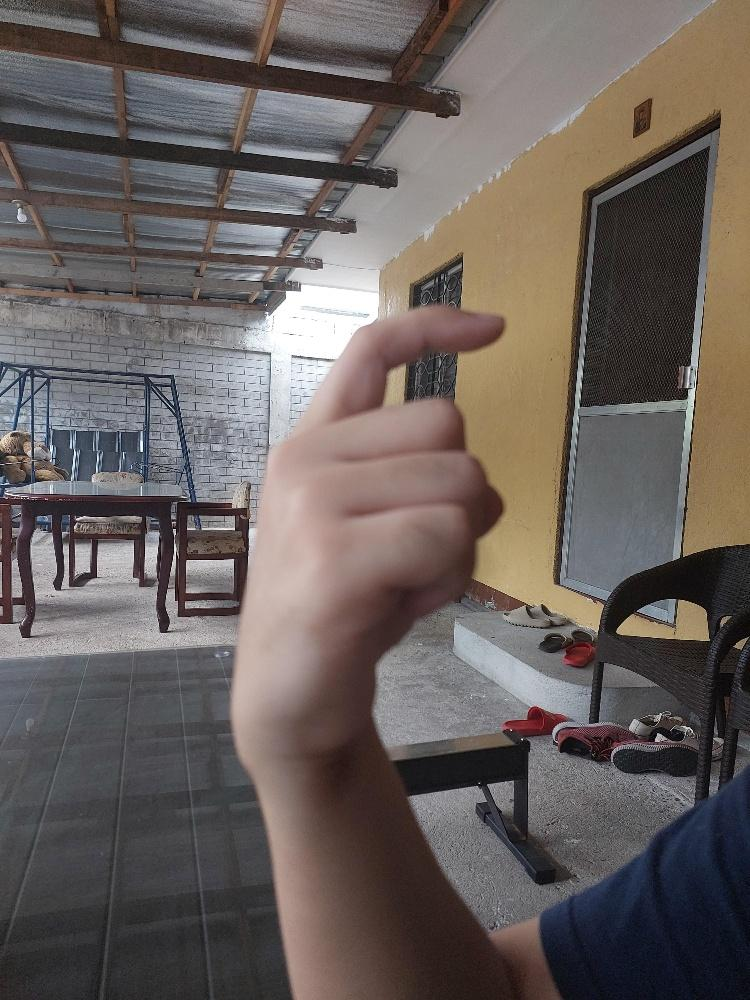x: (230, 298, 510, 752)
